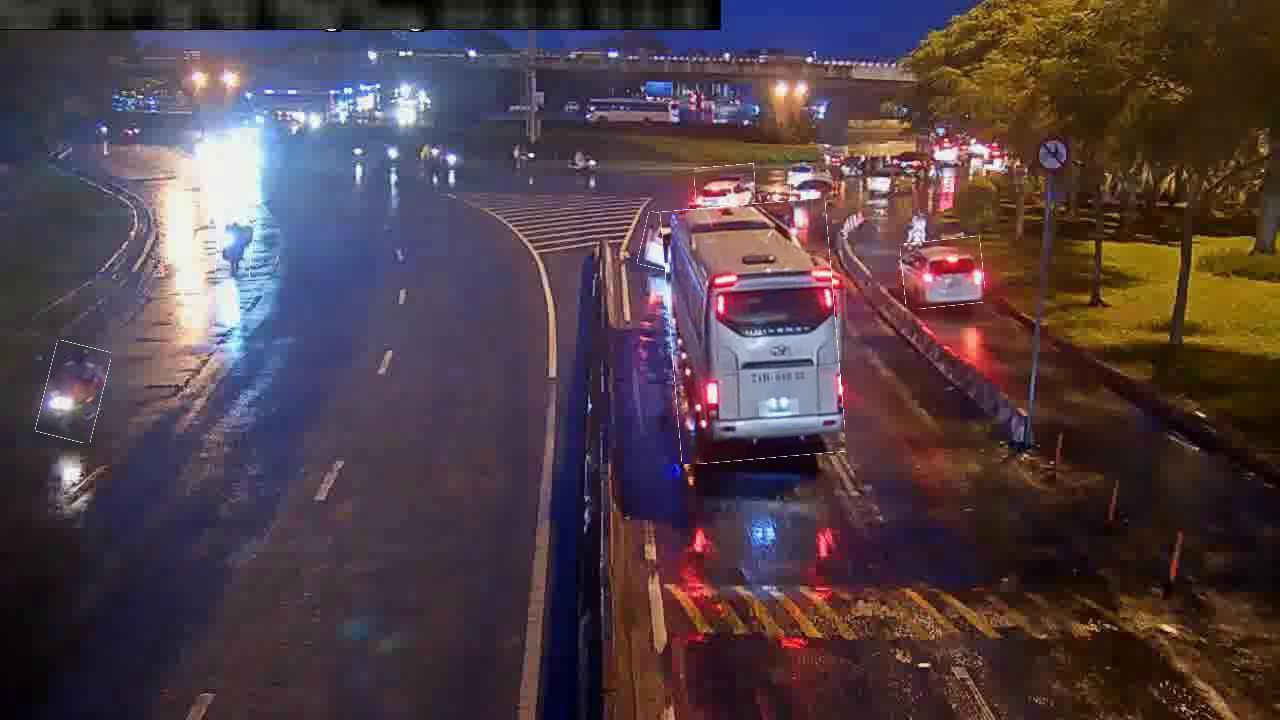14: (666, 202, 841, 462)
container: (902, 238, 985, 308), (640, 213, 684, 271), (694, 165, 756, 204), (790, 176, 835, 208)
motorbike: (41, 342, 107, 442), (217, 218, 253, 278)
